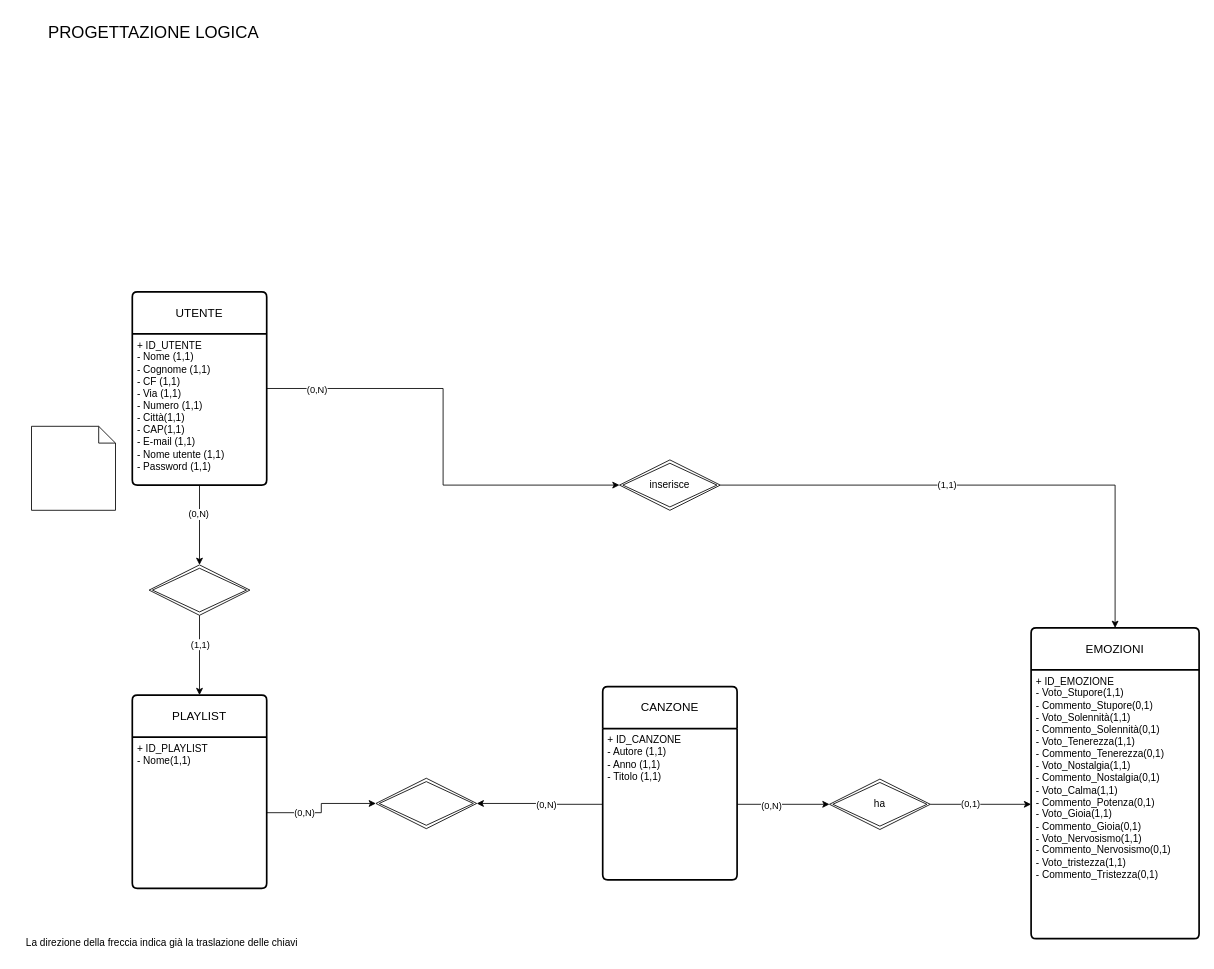
The diagram is 1214 pixels wide and 969 high, and some of its shapes have lost their labels. Each missing label, with the centre of its shape:
contiene: (x=426, y=803)
crea: (x=199, y=589)
Modificati: residenza: (x=73, y=467)
